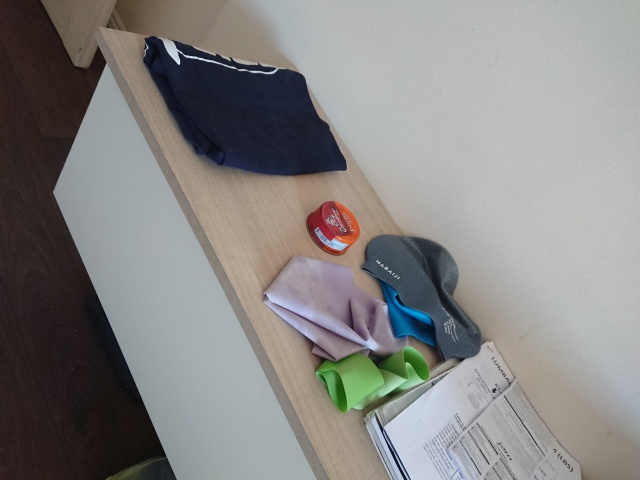Gavrilovic Pork Liver Pate 100g: (304, 200, 362, 257)
